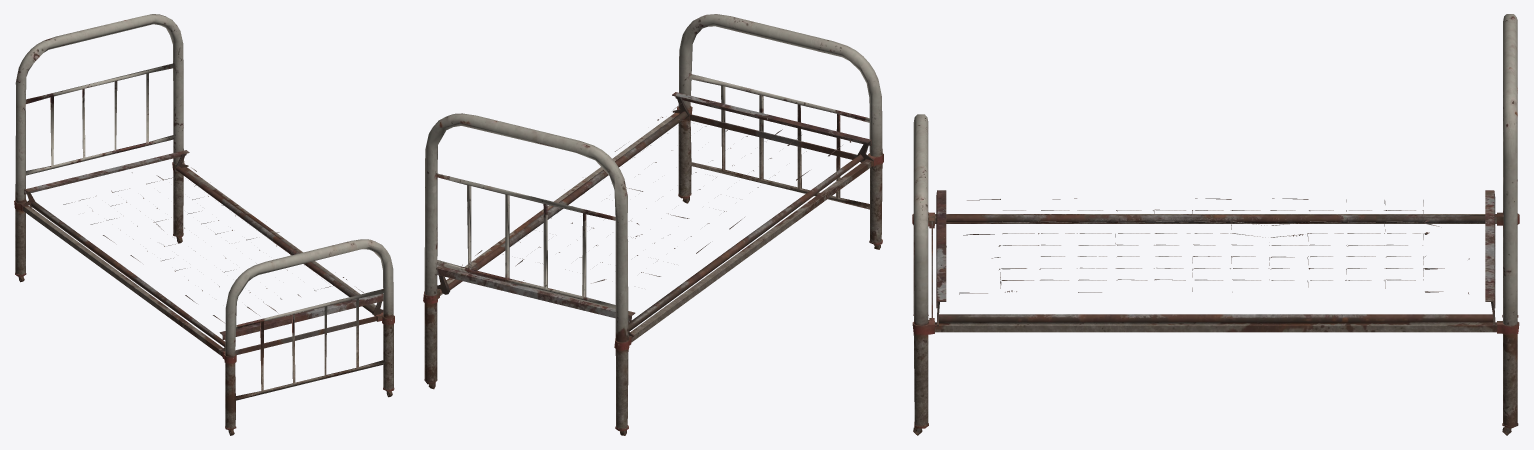
File: old_bed_frame.glb
3 renders of one model, left to right at view 1: azimuth 30°, elevation 25°; view 2: azimuth 150°, elevation 25°; view 3: azimuth 270°, elevation 25°, orthographic. The views are drawn at different scales.
Visible parts, largest first — view 1: old_bed_frame; view 2: old_bed_frame; view 3: old_bed_frame.
Boxes of the visible parts, left/top/right/bottom form: old_bed_frame: left=14, top=14, right=394, bottom=435; old_bed_frame: left=423, top=14, right=883, bottom=435; old_bed_frame: left=912, top=14, right=1519, bottom=435.
Bounding box in the file's own units: 0.9047 × 1.2 × 2.
Materials: 1 (1 with a texture image).
